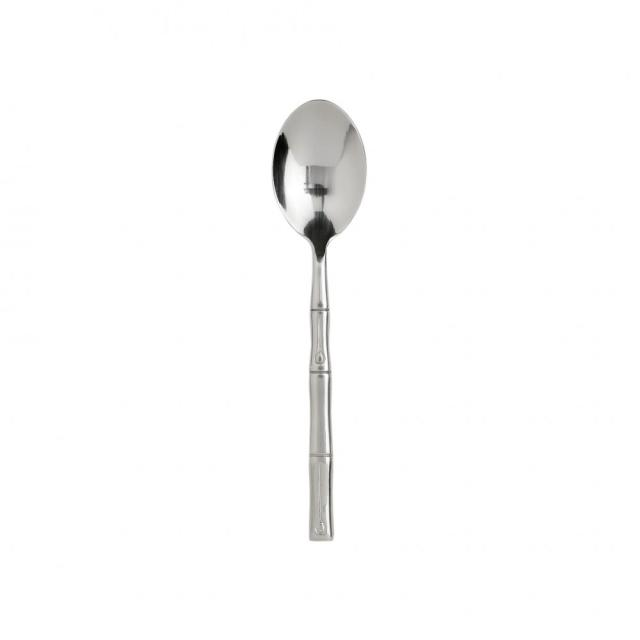spoon: (255, 87, 380, 547)
